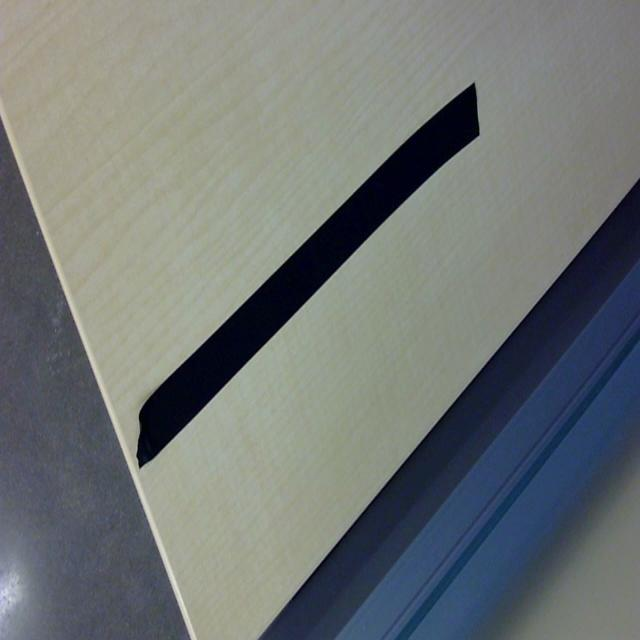tape: (136, 83, 480, 467)
